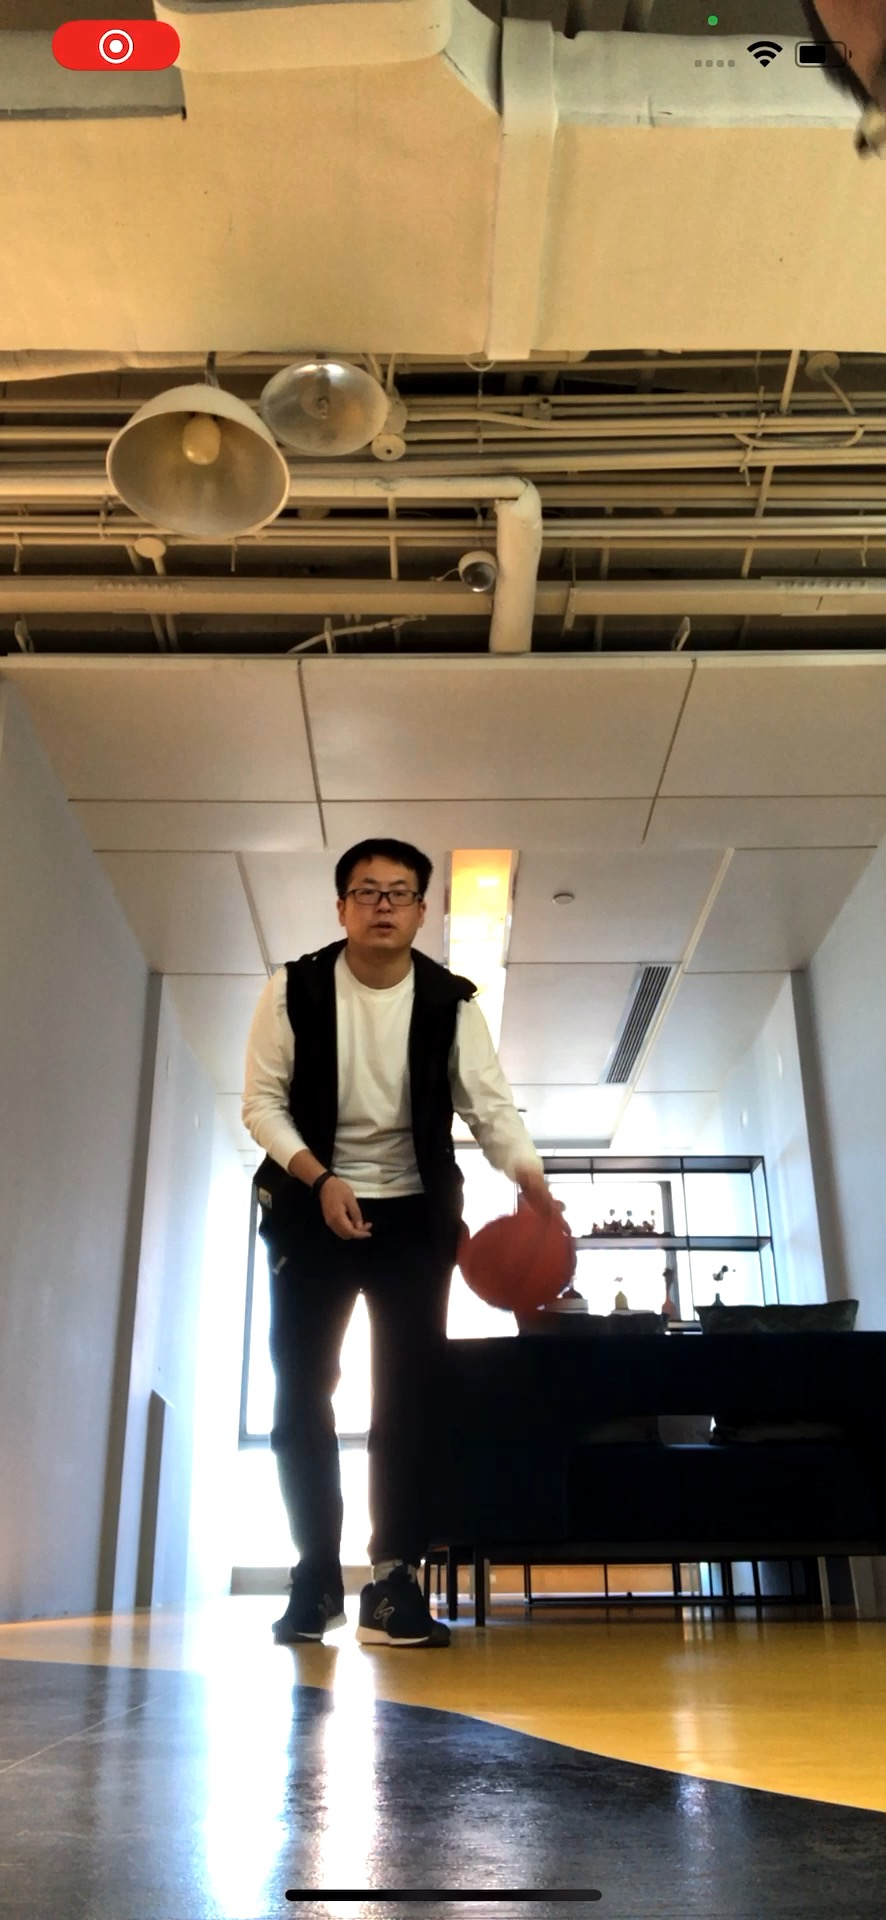ball: (459, 1209, 574, 1314)
